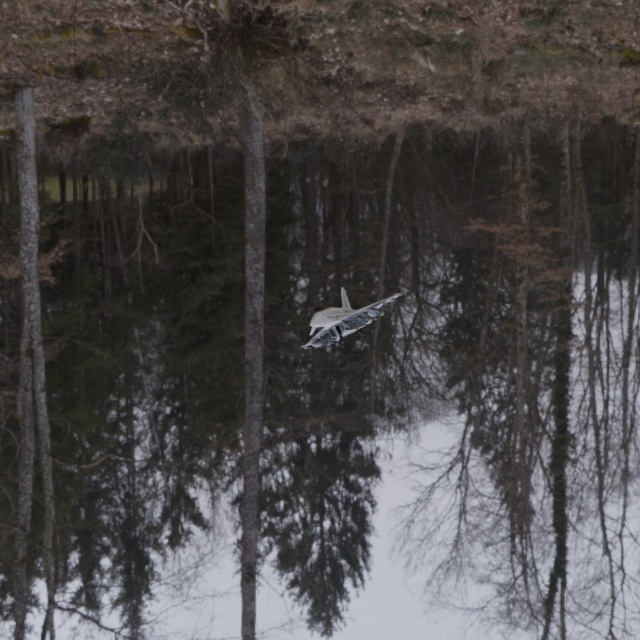eurofighter_typhoon_3d: (235, 252, 418, 376)
